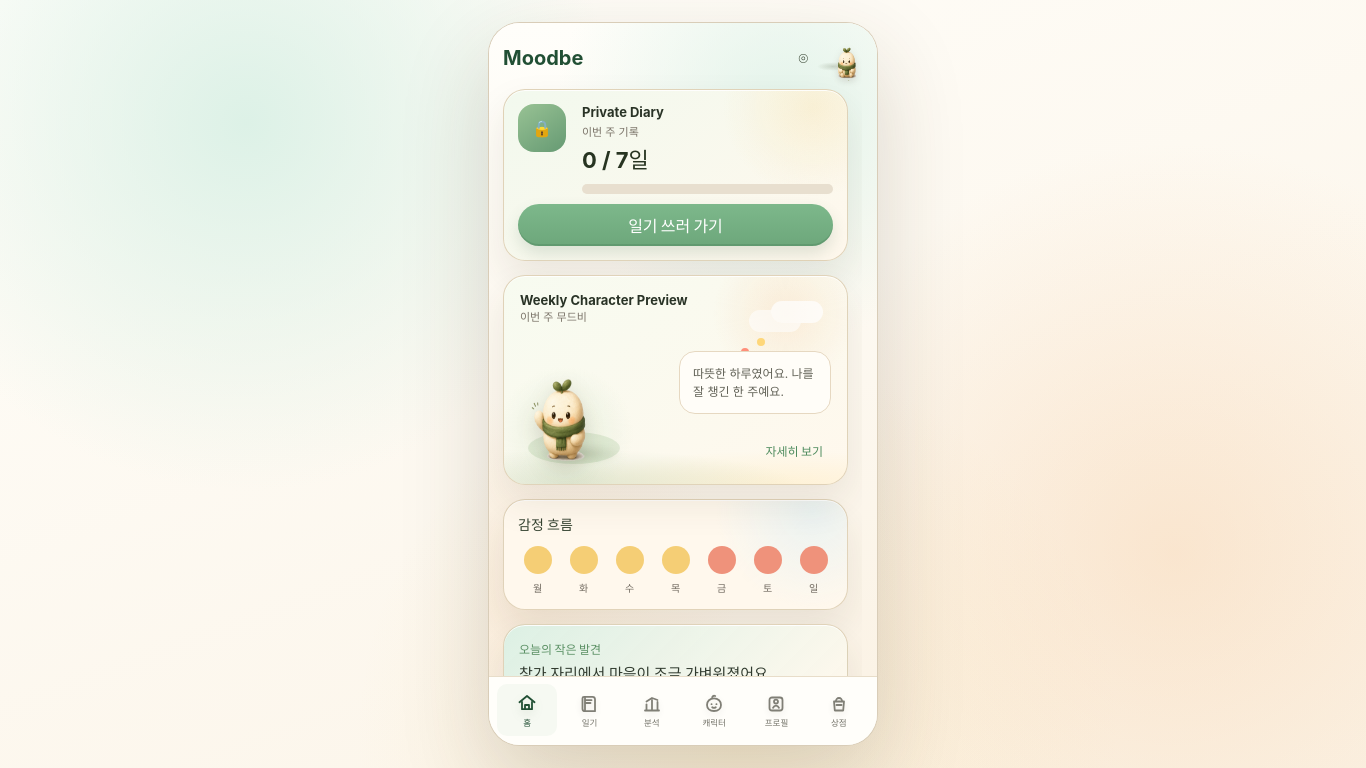
Test: App navigation › buys the cloud cushion with shop currency and renders premium nav assets
The width and height of the screenshot is (1366, 768).
Click the button "상점". click: (839, 710)
box: [809, 684, 869, 736]
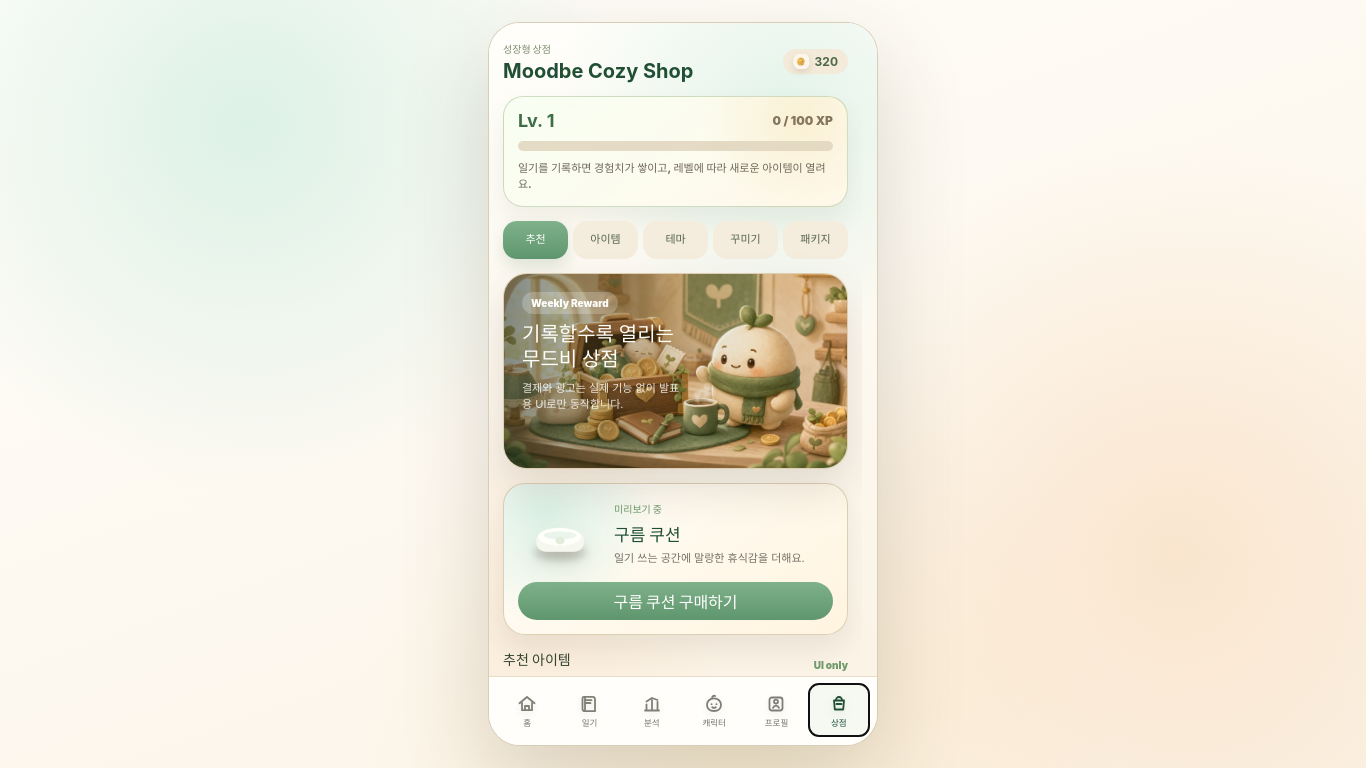
Expected: the number of icons with class "bottom-nav__icon-asset" is 6, [515, 692, 539, 716]; [578, 692, 602, 716]; [640, 692, 664, 716]; [702, 692, 726, 716]; [764, 692, 788, 716]; [827, 691, 851, 715]
Result: the text "320" is shown at [815, 54, 838, 69]
Click the button "구름 쿠션 구매하기". click: (676, 601)
box: [518, 582, 833, 620]
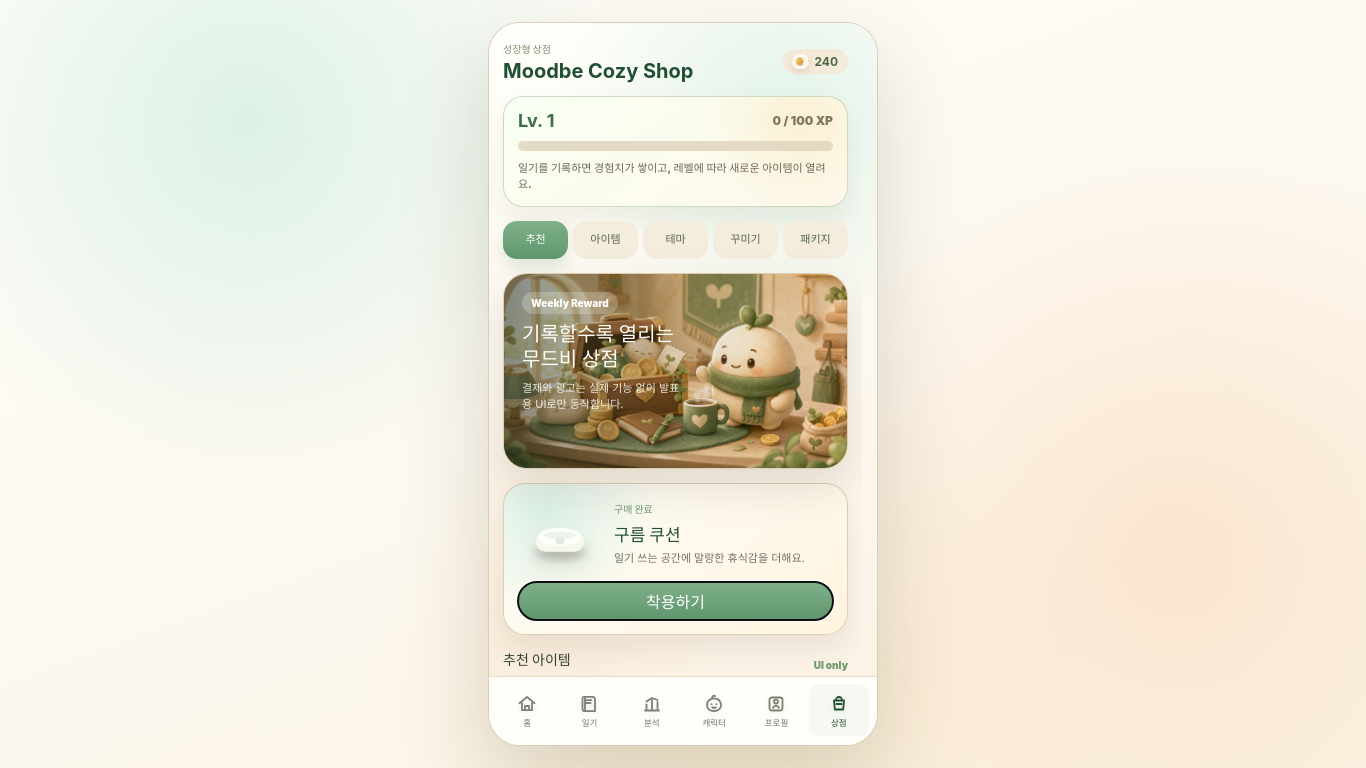
Result: the text "240" is shown at [814, 54, 838, 69]
Result: the text "구매 완료" is shown at [614, 503, 653, 515]
Result: the button "착용하기" is shown at [518, 582, 833, 620]
